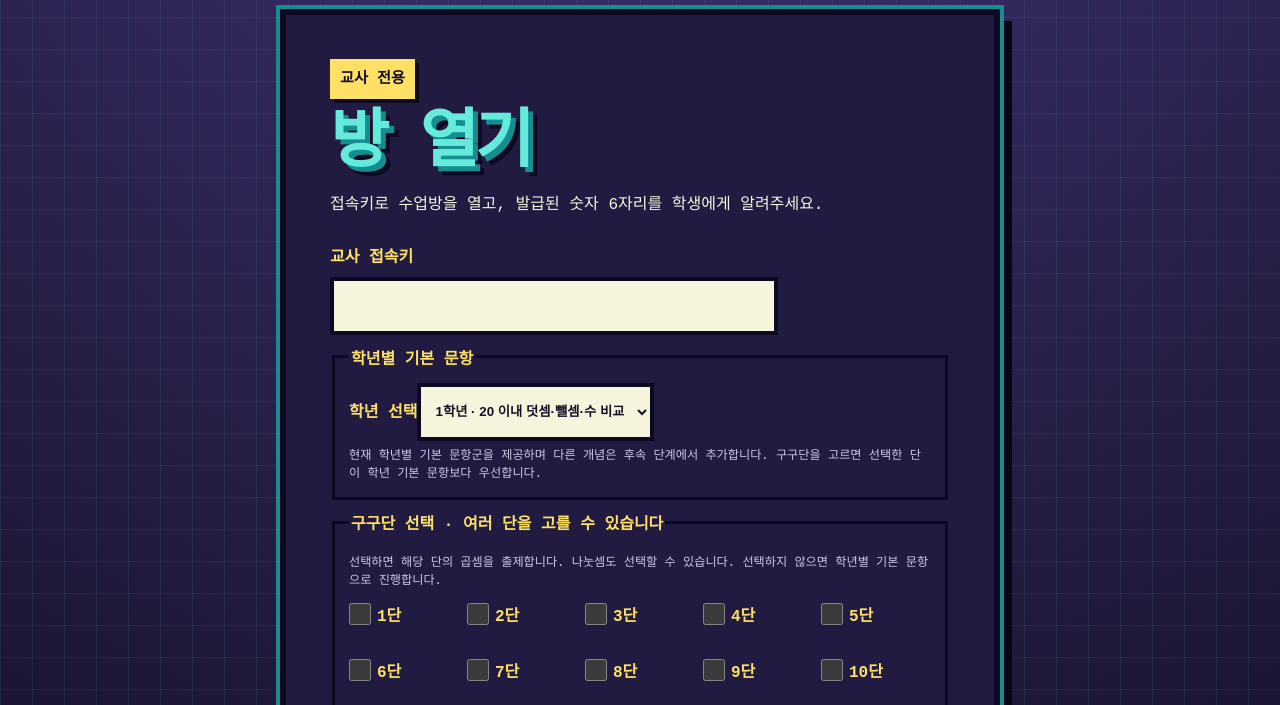
Test: 교사 방 화면 › 1학년을 선택하면 20 이내 덧셈·뺄셈·수 비교 문항군으로 방을 연다
Type "teacher-secret" into the password field labelled "교사 접속키" at point(554, 306), box [330,277,778,335]
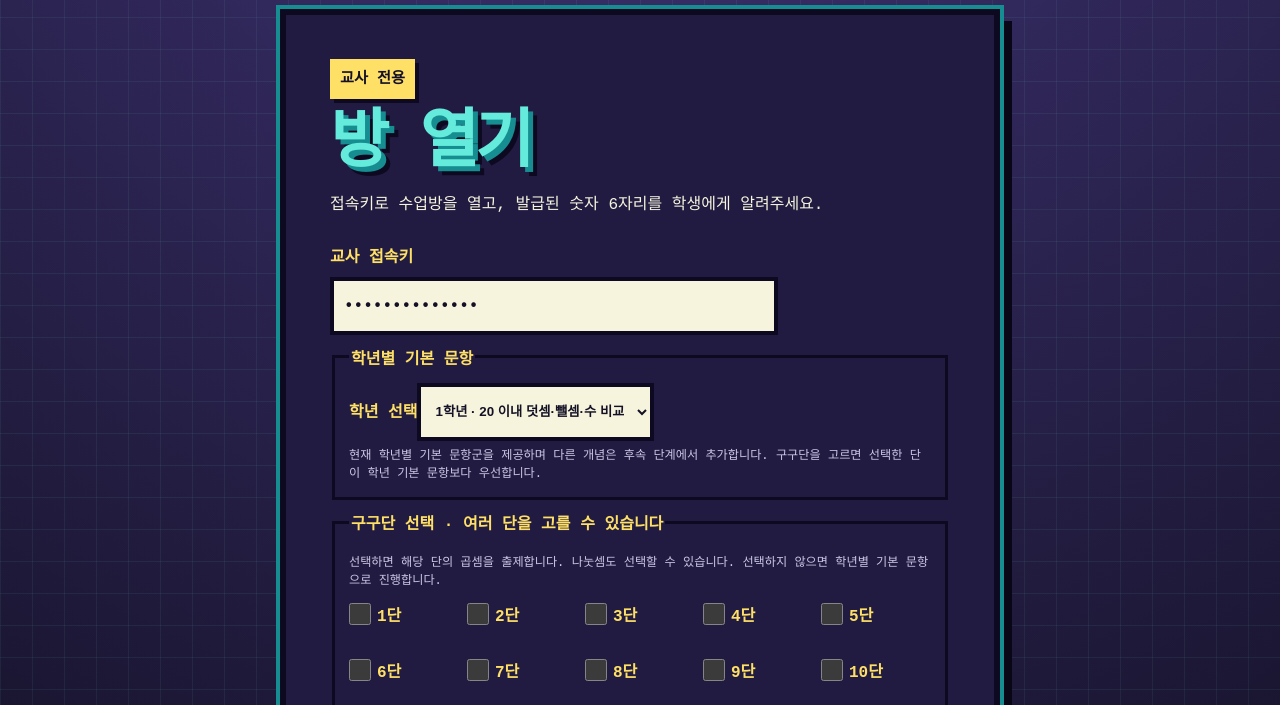
Select "1학년 · 20 이내 덧셈·뺄셈·수 비교" in the dropdown labelled "학년 선택" at point(536, 412), box [418,383,654,441]
(page scrolled)
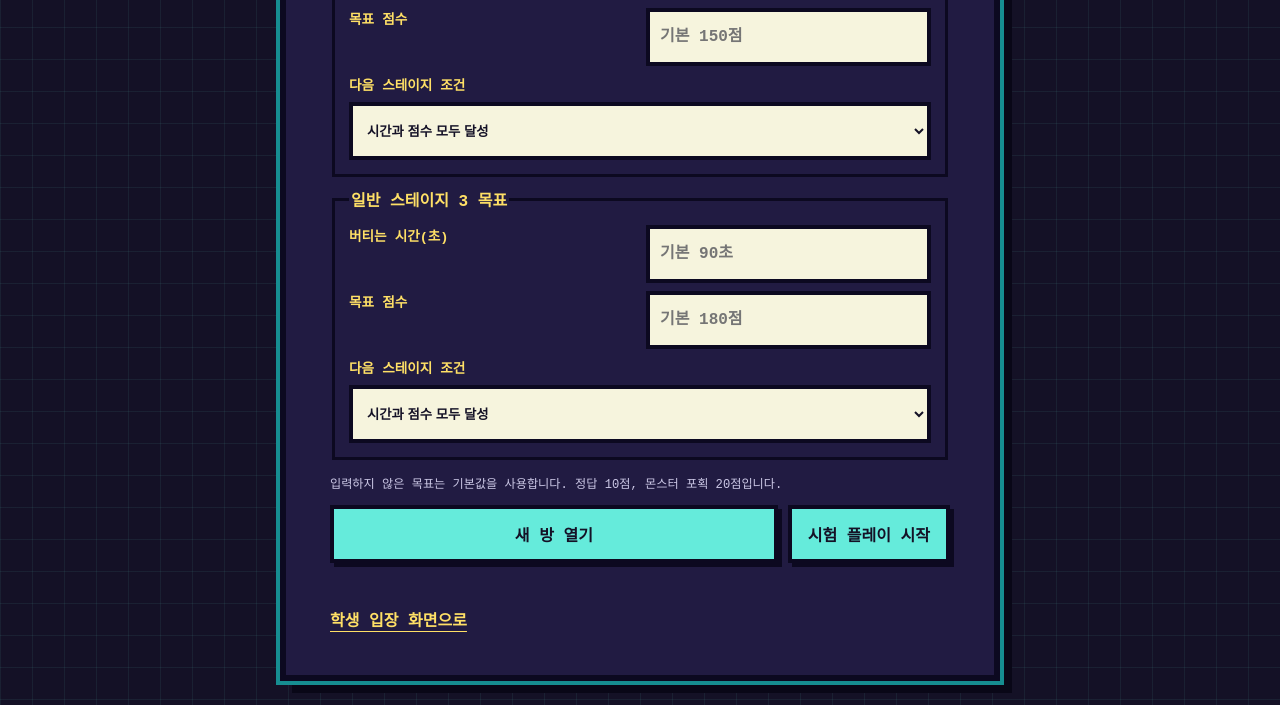
Click the button "새 방 열기" at point(554, 534), box [330,505,778,563]
(page scrolled)
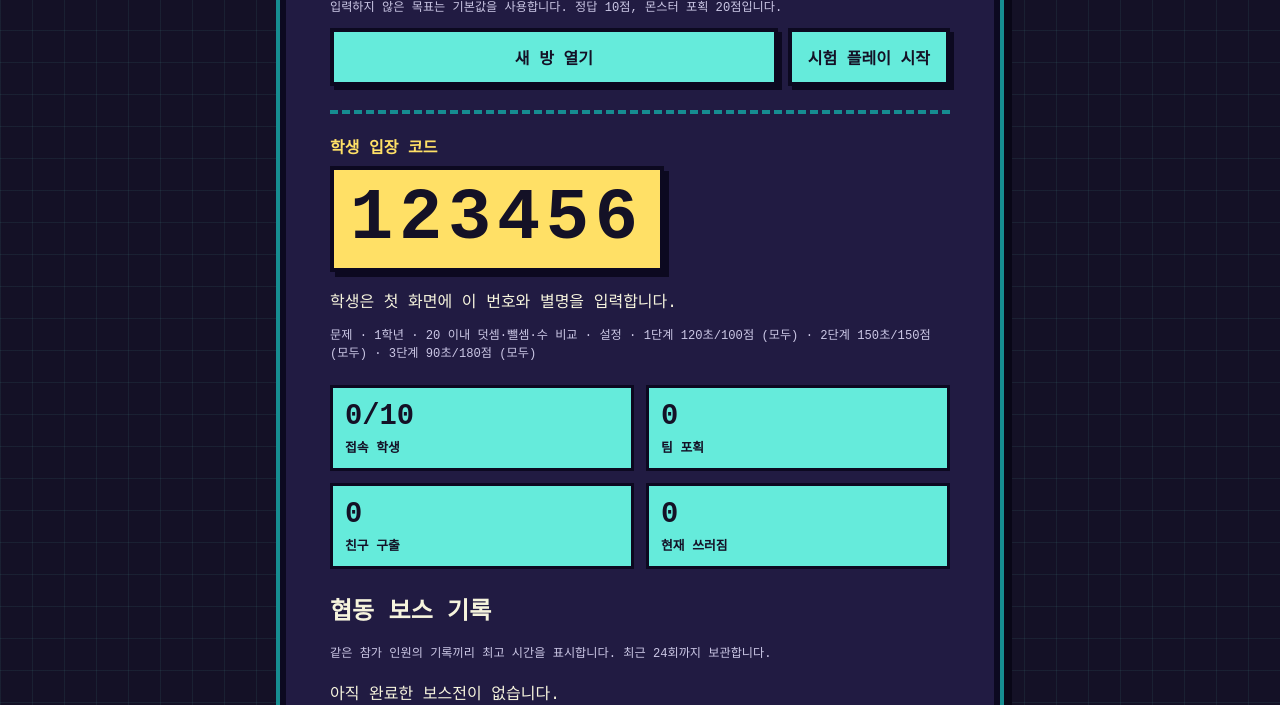
Now the text "123456" is shown, box [330,166,664,272]
